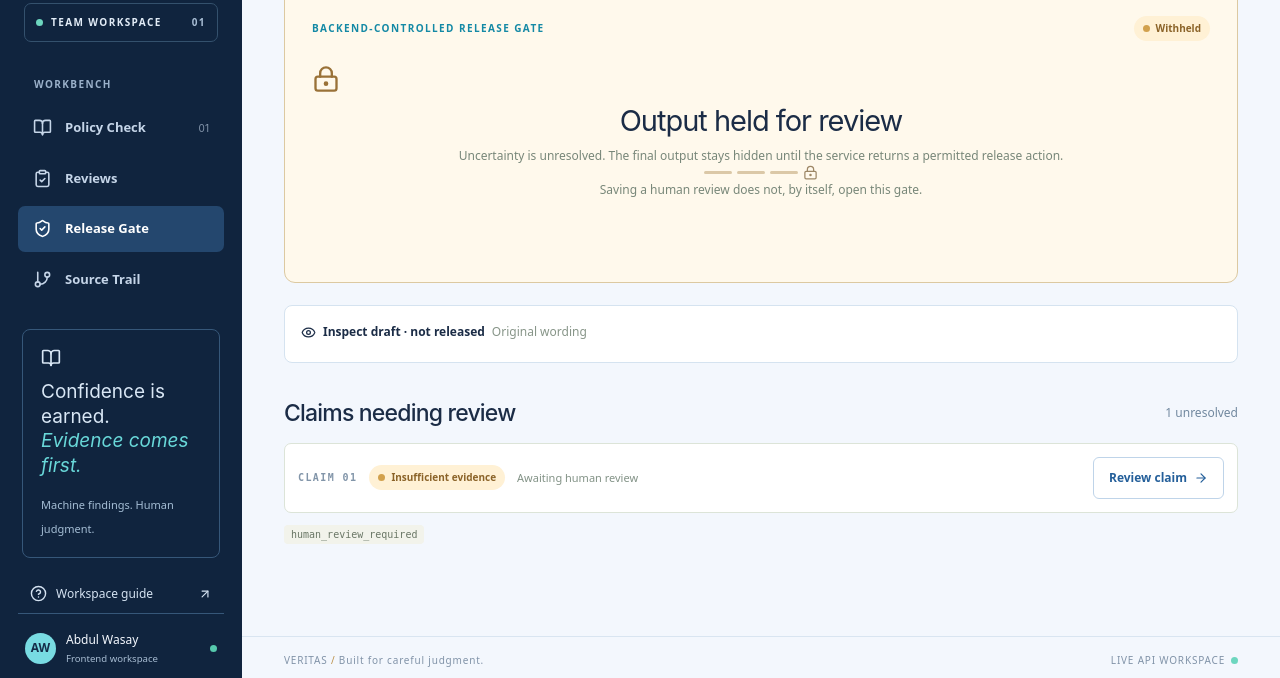
Scenario: records review then refetches the job; a successful review alone never releases Guardian output
This screenshot has width=1280, height=678.
(page scrolled)
Expected: the heading "Output held for review" is shown, [620,103,902,138]
Expected: the text "HELD ORIGINAL TEXT" is not shown
Click the link "Review claim".
click(1158, 478)  # box [1093,457,1224,499]
(page scrolled)
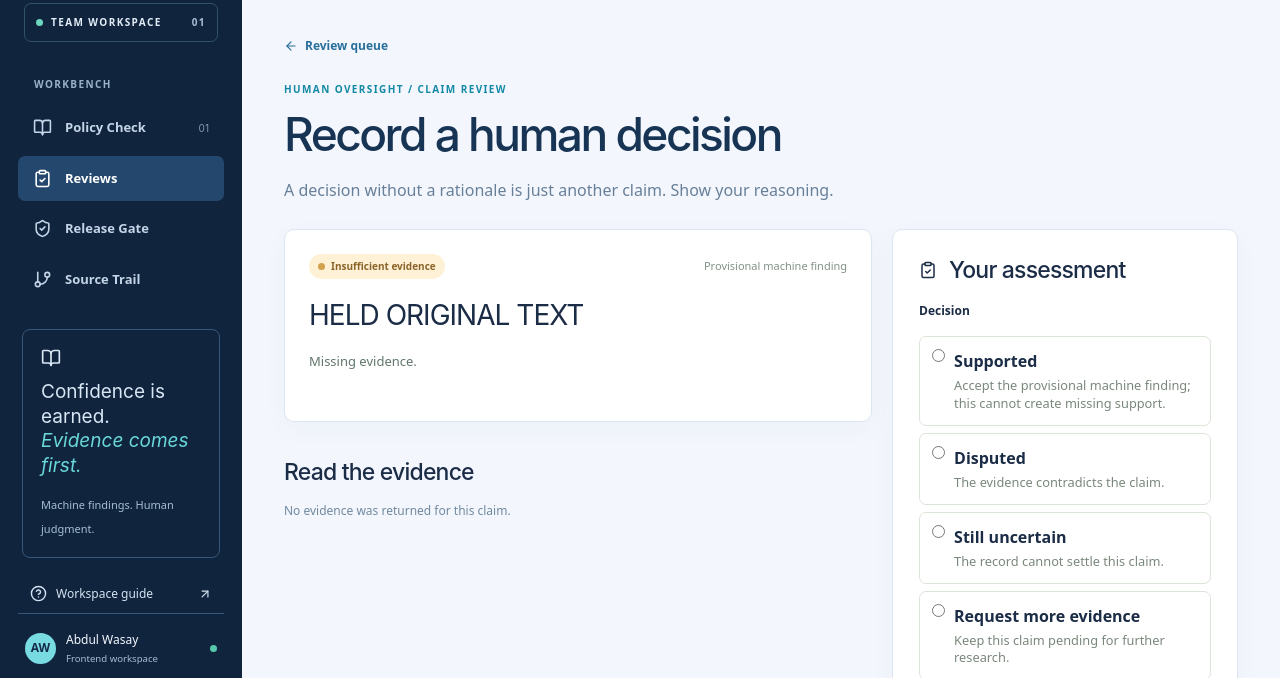
Now the heading "Record a human decision" is shown, box [284,110,833,160]
Click the radio button labelled "Supported".
click(939, 355)  # box [932,349,945,362]
(page scrolled)
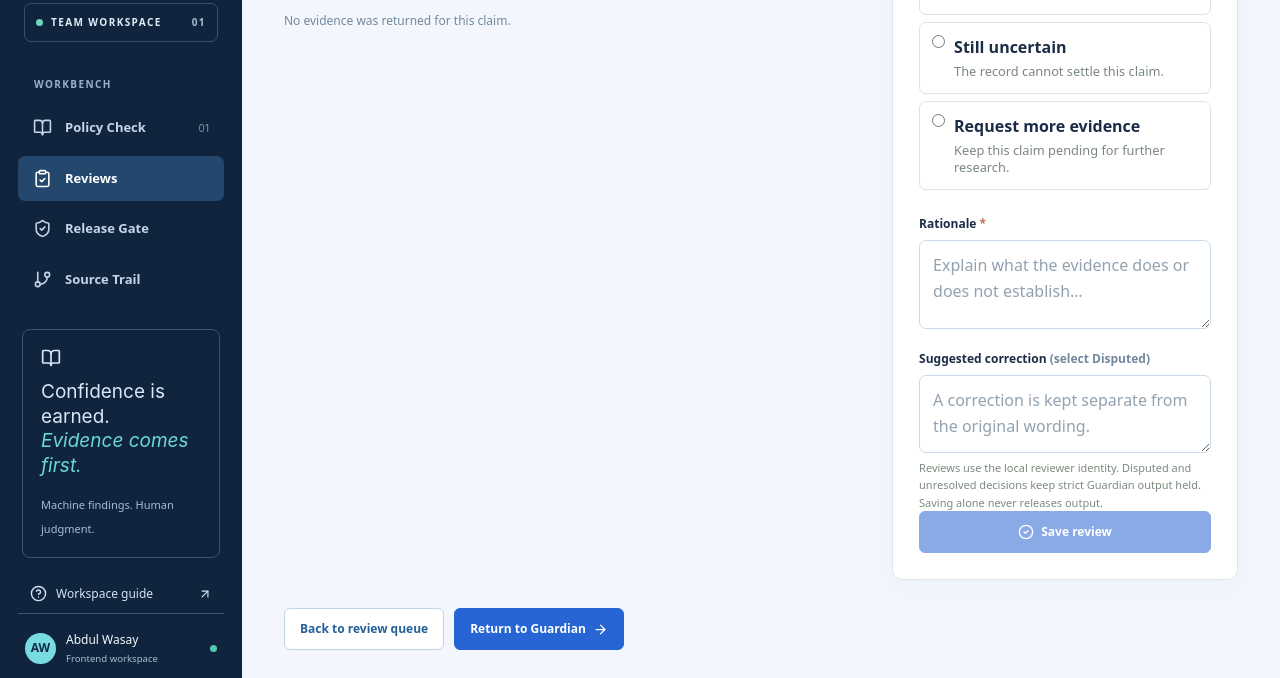
Type "Reviewed the provided records." into the text box labelled "Rationale *".
click(1065, 285); type("Reviewed the provided records.")  # box [919,240,1211,329]
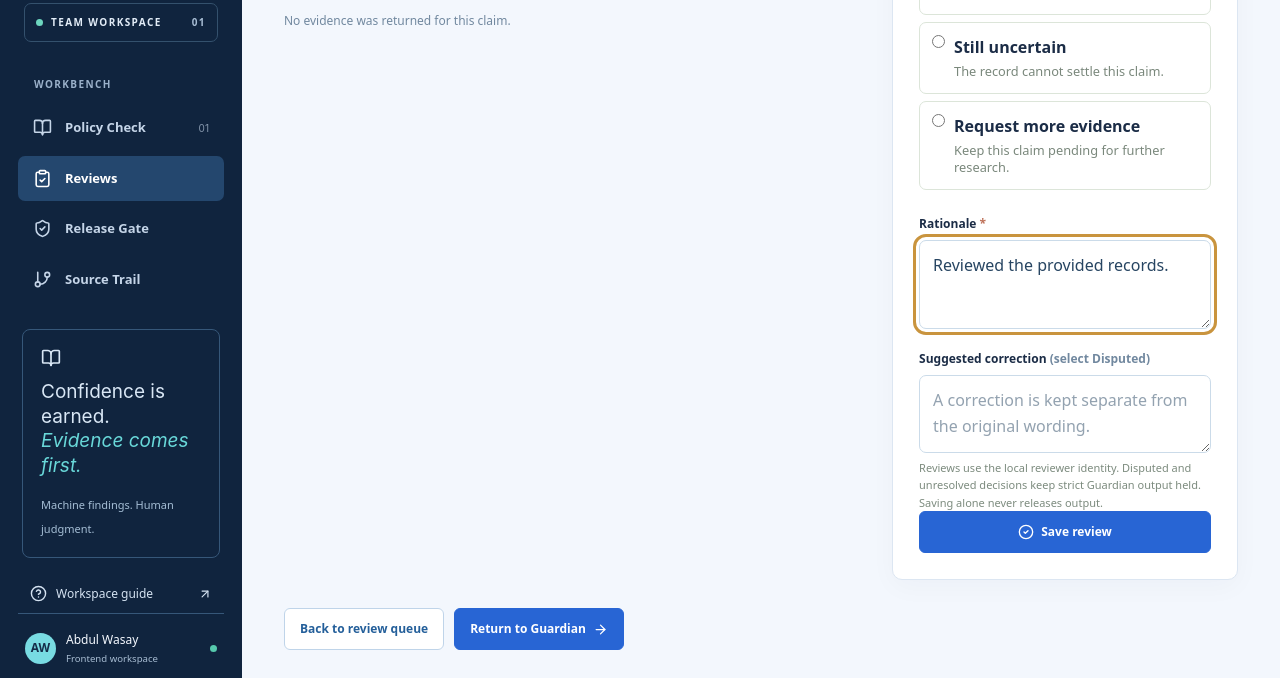
Click the button "Save review".
click(1065, 532)  # box [919,511,1211,553]
(page scrolled)
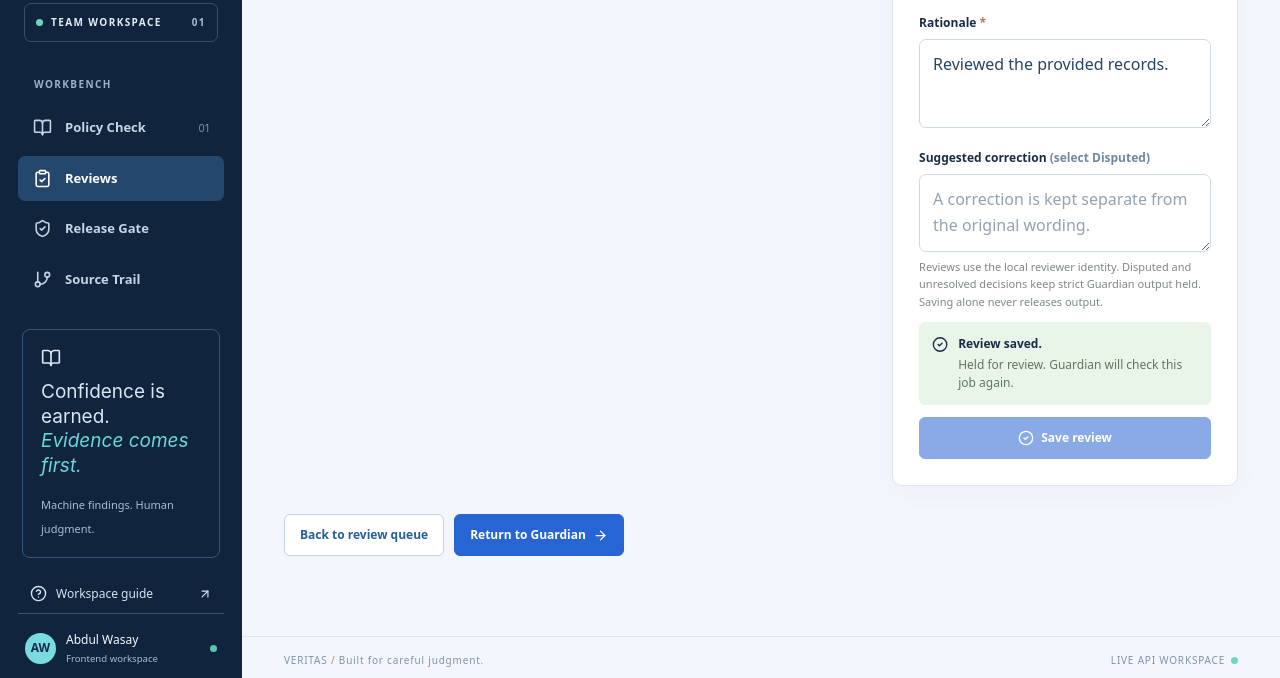
Now the message "Review saved. Held for review. Guardian will check this job again." is shown, box [919,322,1211,405]
Click the link "Return to Guardian".
click(539, 535)  # box [454,514,624,556]
(page scrolled)
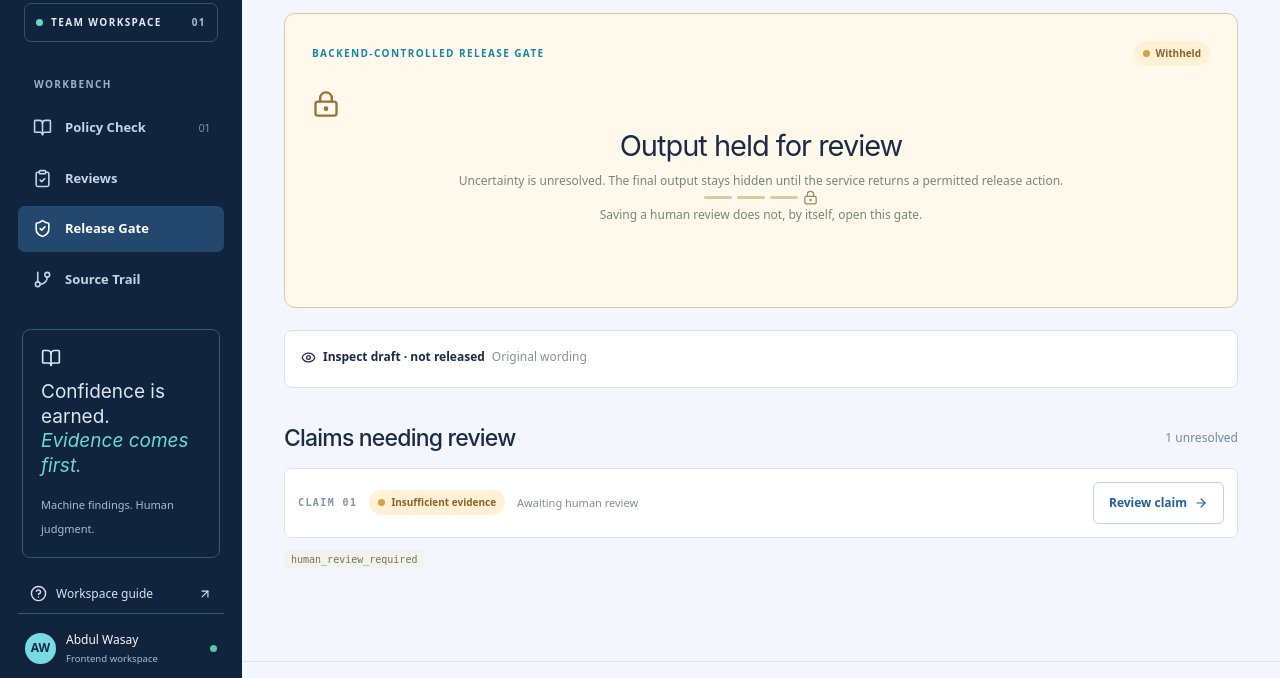
Now the heading "Output held for review" is shown, box [620,128,902,163]
